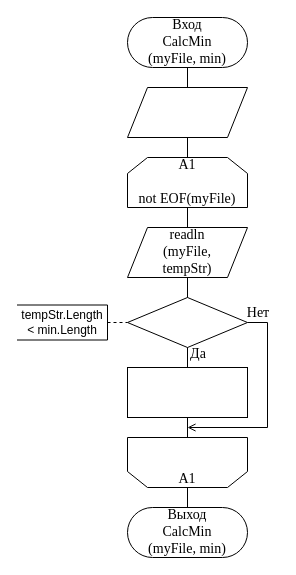
Some shapes in this 296 by 575 pixel diagram are drawn without their labels. Each missing label, with the centre of its shape:
min := tempStr: point (187, 392)
readln (myFile, min): point (187, 112)
